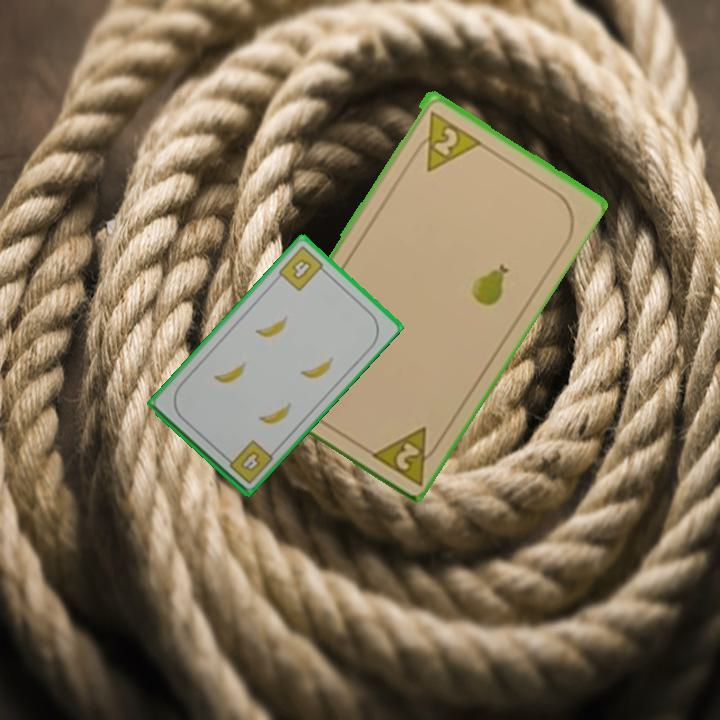2p: (364, 421, 446, 487), (408, 106, 482, 174)
4b: (275, 242, 330, 294), (220, 436, 276, 487)
